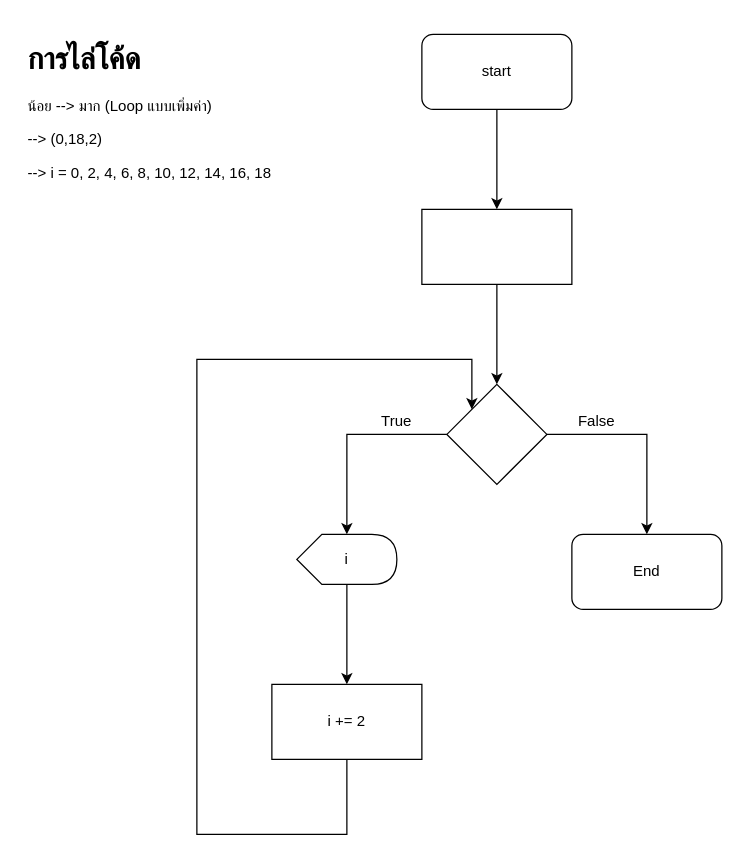
This 744x866 diagram has some shape labels left out. Here are the shapes that lost their labels. From the top down, the centre of each, then its label:
At (x=496, y=246): "i = 0".
At (x=496, y=433): "i <= 18".
